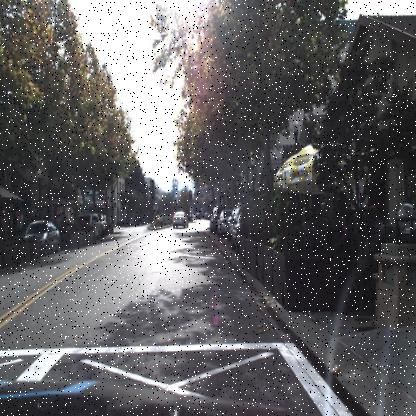car: (20, 216, 62, 255), (75, 208, 102, 240), (217, 209, 233, 237), (172, 209, 190, 230)
trafficLight-Red: (189, 188, 194, 202)
